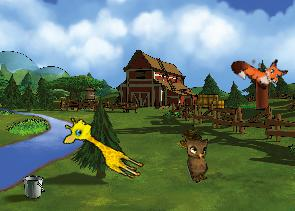fox: (228, 41, 290, 97)
giraffe: (57, 113, 151, 182)
owl: (179, 131, 220, 184)
